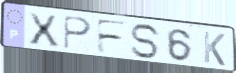6: (165, 28, 195, 63)
F: (95, 17, 129, 55)
K: (202, 30, 227, 68)
P: (62, 14, 93, 51)
S: (129, 22, 163, 61)
X: (26, 11, 62, 48)
